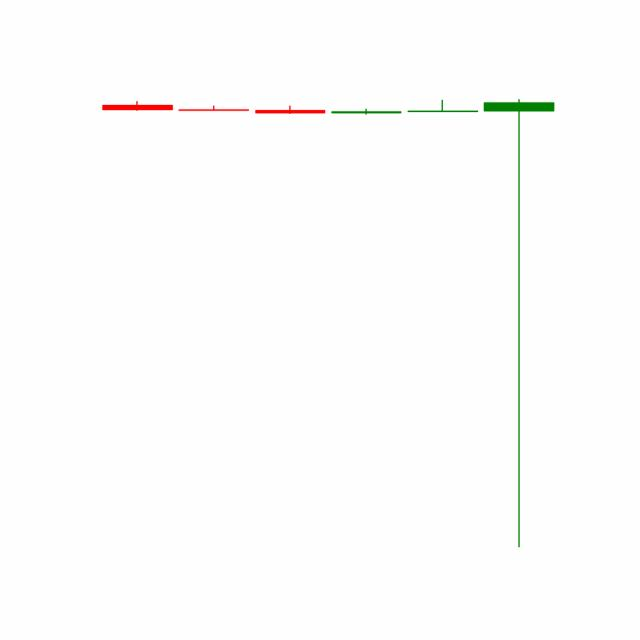Gravestone Doji: (403, 99, 481, 112)
